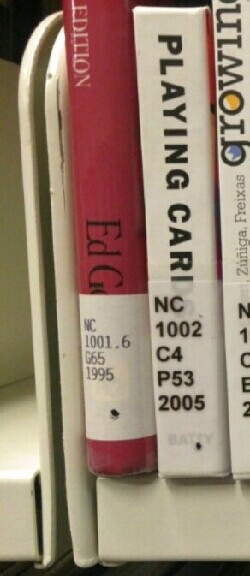call_number: (151, 284, 222, 440), (77, 295, 148, 438)
